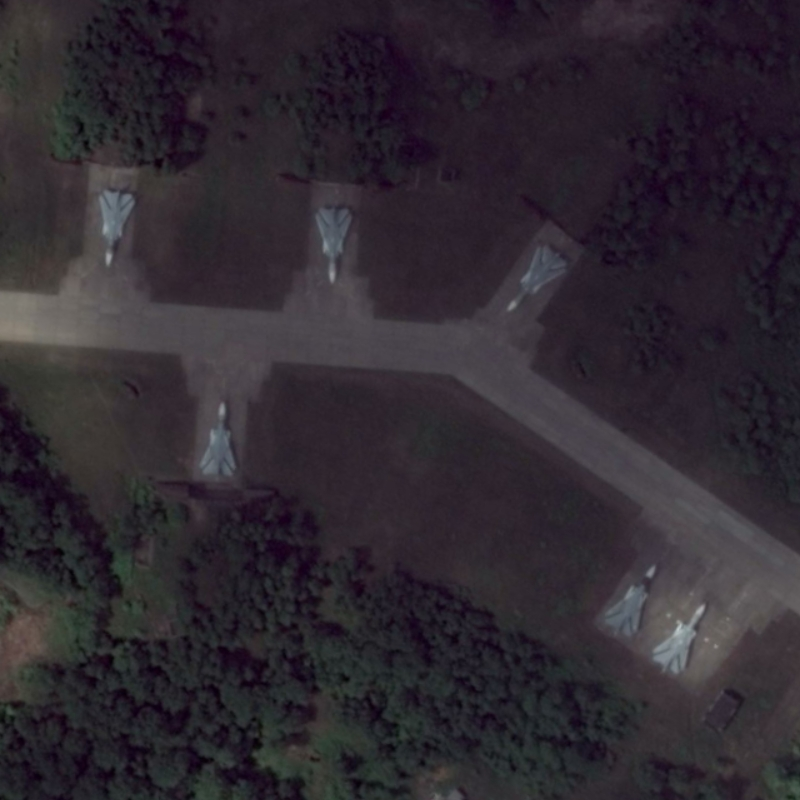A20: (505, 243, 570, 314), (650, 601, 709, 676), (602, 563, 658, 639), (313, 204, 356, 285), (196, 399, 239, 479), (97, 187, 138, 268)
